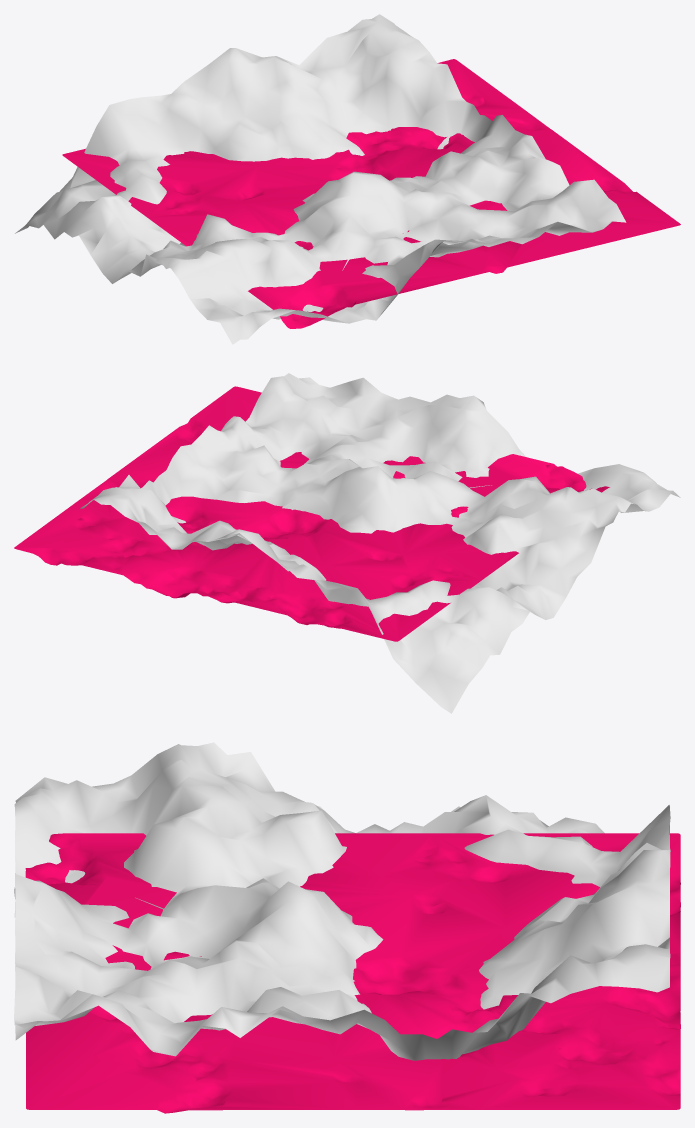
Rendered from floorlp.fbx.
The picture shows the model from 3 angles, top to bottom: view 1: azimuth 30°, elevation 25°; view 2: azimuth 150°, elevation 25°; view 3: azimuth 270°, elevation 25°; orthographic projection. The views are drawn at different scales.
Visible parts, largest first — view 1: Plane, Plane.001; view 2: Plane, Plane.001; view 3: Plane, Plane.001.
Boxes of the visible parts, bbox=[...] form: Plane: bbox=[15, 14, 626, 344]; Plane.001: bbox=[62, 59, 680, 328]; Plane: bbox=[80, 373, 680, 713]; Plane.001: bbox=[14, 386, 609, 641]; Plane: bbox=[14, 742, 670, 1060]; Plane.001: bbox=[25, 833, 680, 1113].
Size of the model in its own units: 1865 by 521 by 1630.
